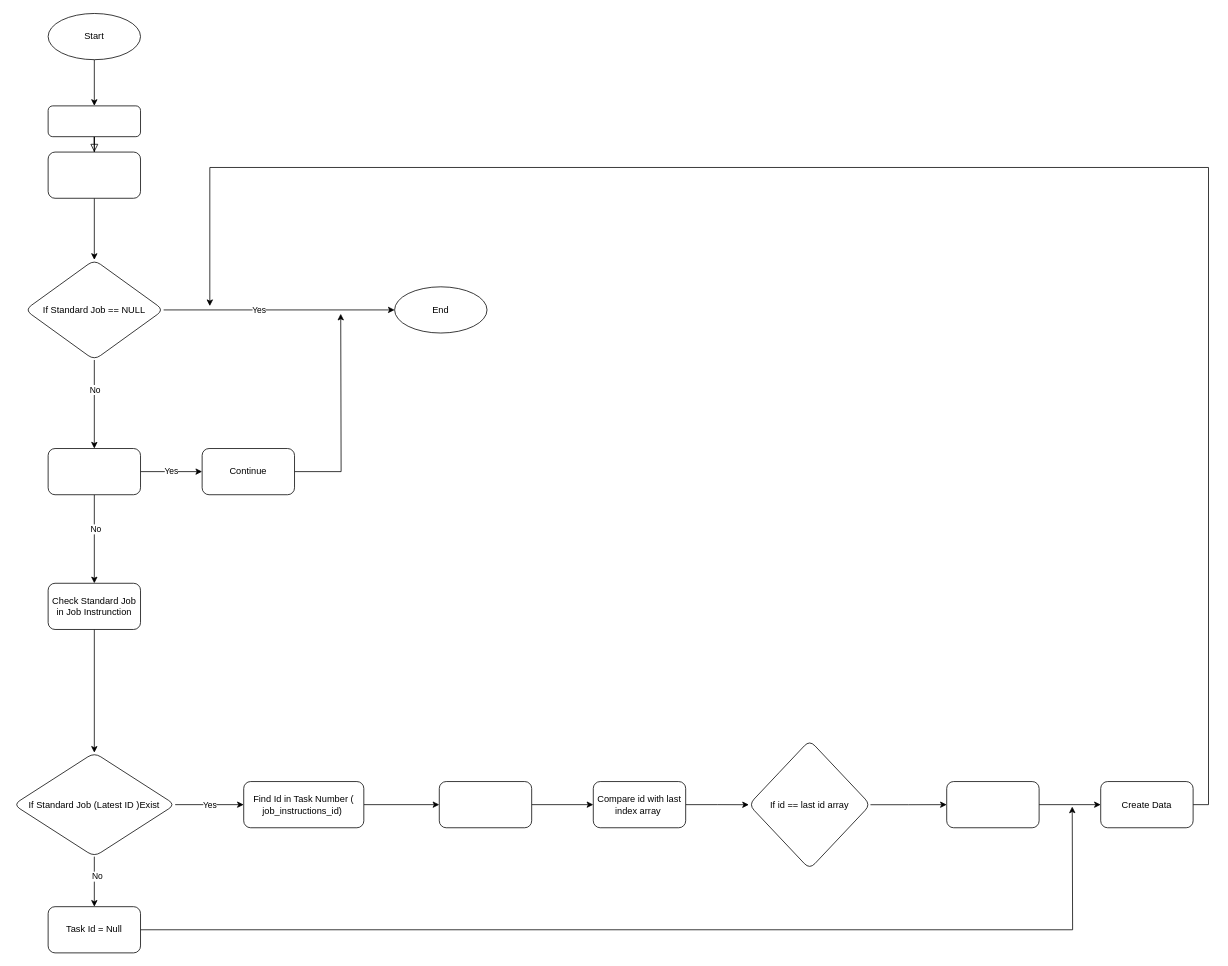
Image size: 1228x966. Some labels were removed from this diagram. Here are the shapes that lost their labels. From the top down, the centre of each, then its label:
the point at 94,121: Import Excel
the point at 94,174: Find Standard Job In Excel
the point at 94,471: Check Standard Job in Database
the point at 485,804: Explode Job_instruction_id To Array
the point at 992,804: Task id = Tasknumber ( Id )
